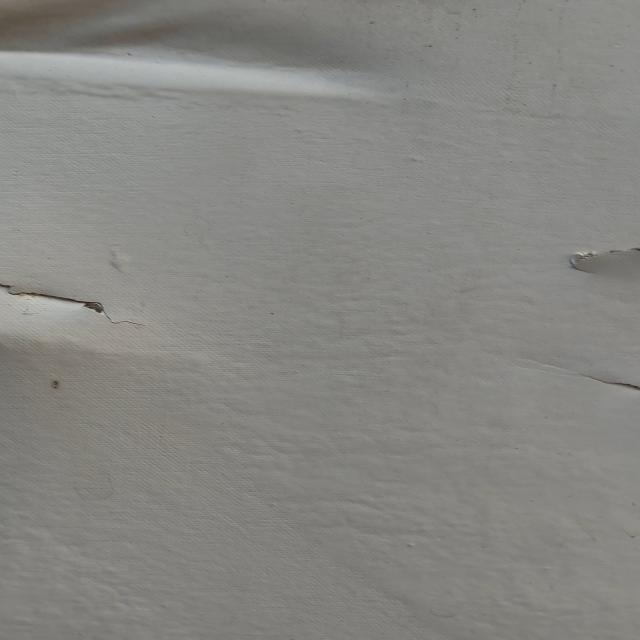Dents or Deformation: (1, 1, 425, 115)
Scratches: (1, 281, 169, 342), (548, 246, 640, 281), (558, 357, 640, 394)
